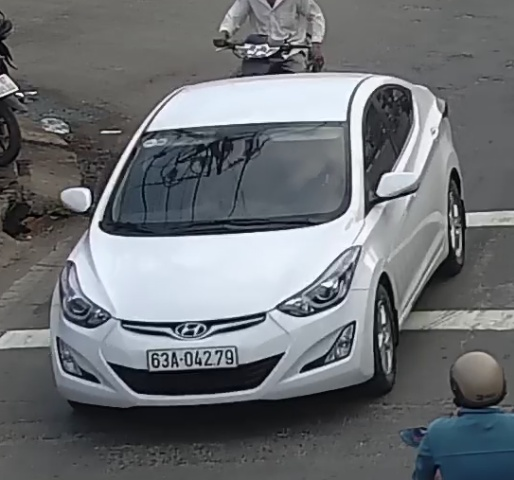vehicle plate: (146, 343, 243, 370)
